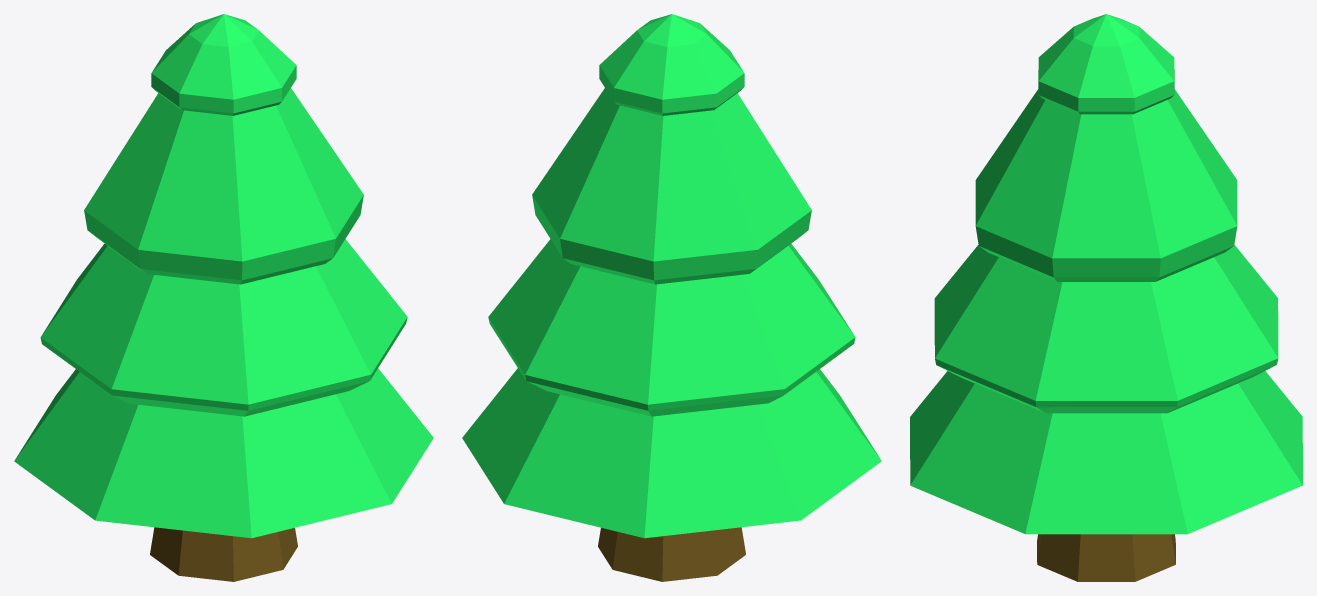
File: tree.glb
The picture shows the model from 3 angles, left to right: view 1: azimuth 30°, elevation 25°; view 2: azimuth 150°, elevation 25°; view 3: azimuth 270°, elevation 25°; orthographic projection.
Visible parts, largest first — view 1: Tree1; view 2: Tree1; view 3: Tree1.
Part boxes in pixels (left/top/right/bottom): Tree1: left=14, top=14, right=433, bottom=581; Tree1: left=462, top=14, right=881, bottom=581; Tree1: left=910, top=14, right=1302, bottom=581.
Bounding box in the file's own units: 3.68 × 5.58 × 3.68.
